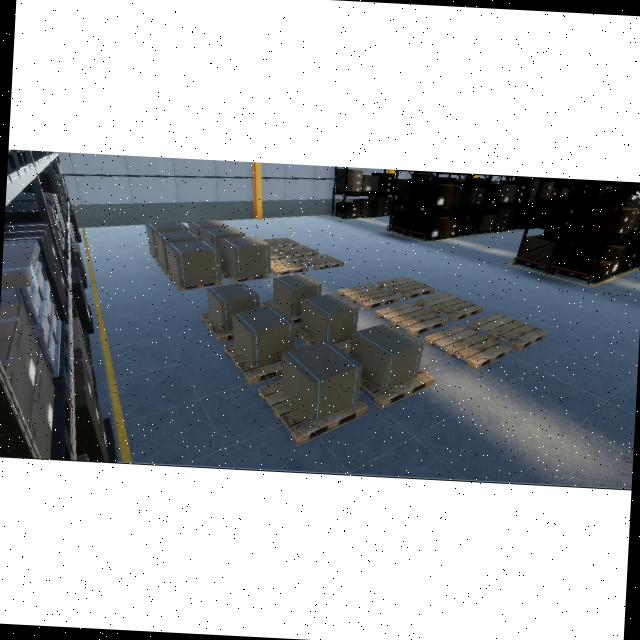wooden_pallet: (257, 378, 369, 445), (425, 324, 511, 371), (360, 367, 436, 408), (468, 312, 547, 351), (222, 342, 283, 387), (375, 302, 449, 337), (416, 292, 483, 322), (337, 283, 399, 310), (377, 276, 435, 300), (200, 312, 235, 343), (167, 272, 222, 289), (298, 253, 344, 270), (220, 267, 269, 282), (271, 258, 309, 276), (277, 245, 320, 259), (261, 236, 299, 248), (268, 247, 286, 261)
